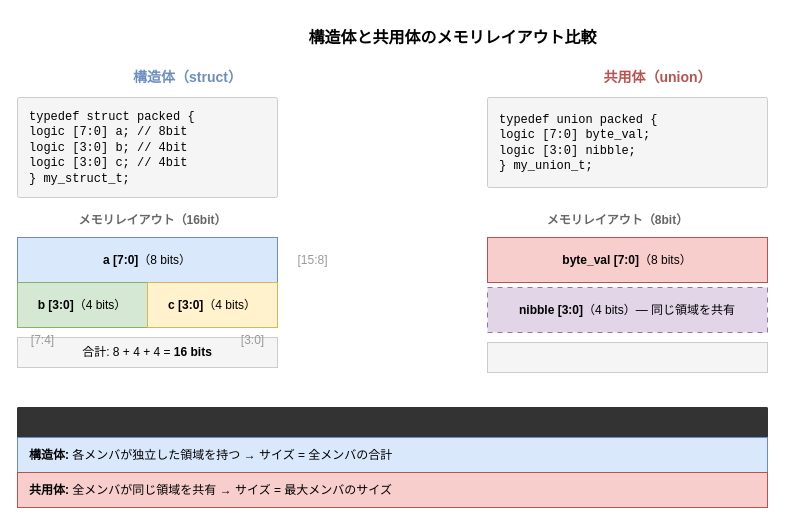
This 785x525 diagram has some shape labels left out. The shapes that lost their labels are listed below. From the top down, each one's centre as x and y in pixels, then its label:
(627,357): 合計: max(8, 4) = 8 bits （共有）
(392,422): 主な違い
